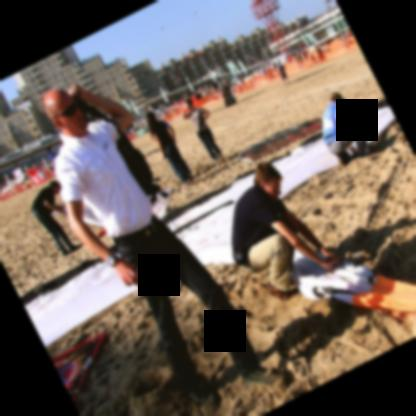backpack: (116, 134, 153, 196)
